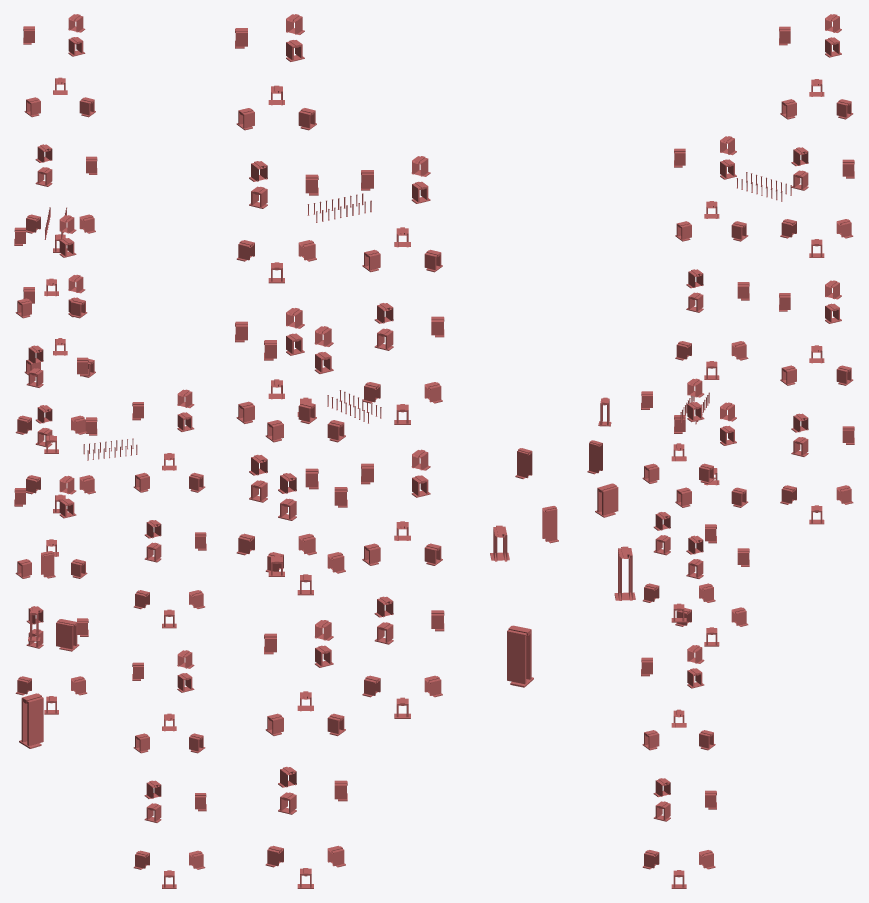
File: FairyTale46.gltf
3 views of the same model, side by side, from view 1: azimuth 30°, elevation 25°; view 2: azimuth 150°, elevation 25°; view 3: azimuth 270°, elevation 25° (orthographic). The views are drawn at different scales.
Parts seen in each view (by area): view 1: CastleLG_PlasterBrown001; view 2: CastleLG_PlasterBrown001; view 3: CastleLG_PlasterBrown001.
Boxes of the visible parts, x1,y1,x2,y2 form: CastleLG_PlasterBrown001: [14, 14, 206, 888]; CastleLG_PlasterBrown001: [235, 14, 558, 888]; CastleLG_PlasterBrown001: [587, 14, 854, 888].
Bounding box in the file's own units: 26.2 × 93.79 × 27.59.
